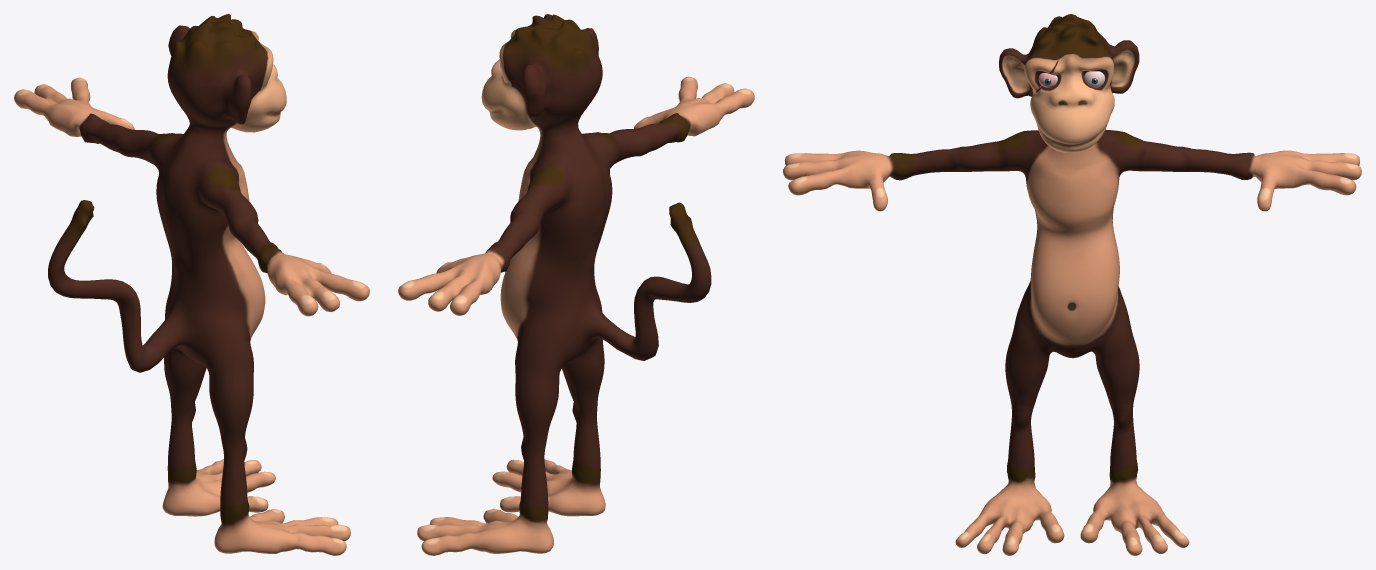
The model's file is opice_sergio.glb.
3 views of the same model, side by side, from view 1: azimuth 30°, elevation 25°; view 2: azimuth 150°, elevation 25°; view 3: azimuth 270°, elevation 25° (orthographic). The views are drawn at different scales.
Visible parts, largest first — view 1: Cabeza_02 - Default_0; view 2: Cabeza_02 - Default_0; view 3: Cabeza_02 - Default_0.
Boxes of the visible parts, box(x1,y1,x2,y2) form: Cabeza_02 - Default_0: box(14, 14, 369, 555); Cabeza_02 - Default_0: box(398, 14, 754, 555); Cabeza_02 - Default_0: box(783, 14, 1361, 555).
Size of the model in its own units: 0.3105 by 0.6 by 0.6321.
2 materials, 2 textured.
